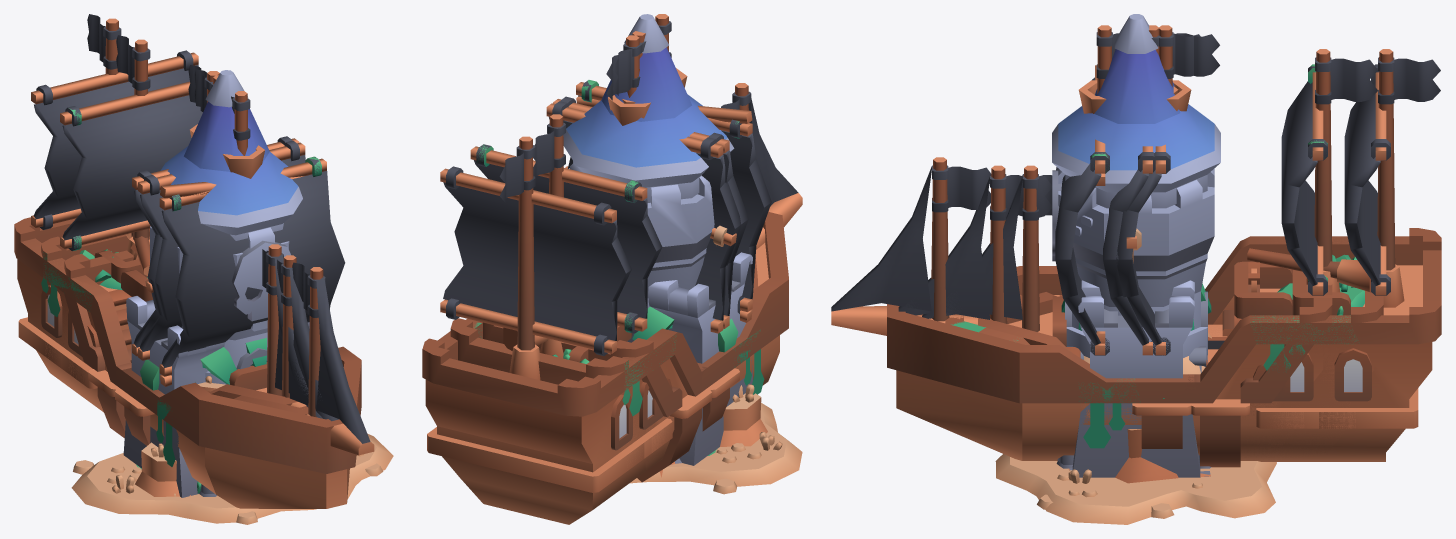
The model's file is pirate_kit.glb.
3 views of the same model, side by side, from view 1: azimuth 30°, elevation 25°; view 2: azimuth 150°, elevation 25°; view 3: azimuth 270°, elevation 25° (orthographic). The views are drawn at different scales.
Parts seen in each view (by area): view 1: ship-pirate-large, sail-a (×4), sail-b (×2), ship-pirate-medium, tower-complete-large, patch-sand-foliage, ship-pirate-small, castle-gate, flag-c (×3), rocks-sand-a, ship-ghost, tower-complete-small (+3 smaller); view 2: ship-pirate-large, sail-b (×3), tower-complete-large, sail-a (×4), ship-pirate-medium, castle-gate, patch-sand-foliage, tower-complete-small, ship-pirate-small, flag-c (×2), rocks-sand-a, ship-ghost (+2 smaller); view 3: ship-pirate-large, ship-pirate-medium, tower-complete-large, sail-b (×2), patch-sand-foliage, castle-gate, sail-a (×3), ship-pirate-small, tower-complete-small, flag-c (×4), ship-ghost, Group (+3 smaller).
Boxes of the visible parts, bbox=[...] form: ship-pirate-large: bbox=[14, 18, 374, 508]; sail-a (×4): bbox=[132, 136, 345, 386]; sail-b (×2): bbox=[31, 50, 202, 250]; ship-pirate-medium: bbox=[41, 39, 338, 445]; tower-complete-large: bbox=[160, 70, 302, 369]; patch-sand-foliage: bbox=[71, 433, 393, 524]; ship-pirate-small: bbox=[64, 71, 322, 435]; castle-gate: bbox=[123, 296, 309, 497]; flag-c (×3): bbox=[87, 14, 325, 317]; rocks-sand-a: bbox=[135, 376, 225, 496]; ship-ghost: bbox=[41, 252, 175, 466]; tower-complete-small: bbox=[150, 226, 289, 384]; ship-pirate-large: bbox=[422, 31, 802, 524]; sail-b (×3): bbox=[440, 144, 662, 355]; tower-complete-large: bbox=[563, 14, 734, 342]; sail-a (×4): bbox=[546, 81, 771, 333]; ship-pirate-medium: bbox=[450, 14, 765, 489]; castle-gate: bbox=[648, 252, 752, 465]; patch-sand-foliage: bbox=[630, 403, 802, 494]; tower-complete-small: bbox=[569, 162, 714, 307]; ship-pirate-small: bbox=[483, 35, 677, 470]; flag-c (×2): bbox=[499, 123, 565, 202]; rocks-sand-a: bbox=[720, 384, 767, 446]; ship-ghost: bbox=[474, 322, 764, 416]; ship-pirate-large: bbox=[831, 25, 1441, 467]; ship-pirate-medium: bbox=[898, 25, 1383, 461]; tower-complete-large: bbox=[1052, 14, 1220, 354]; sail-b (×2): bbox=[1281, 64, 1390, 295]; patch-sand-foliage: bbox=[995, 454, 1276, 524]; castle-gate: bbox=[1056, 282, 1211, 477]; sail-a (×3): bbox=[1052, 77, 1170, 355]; ship-pirate-small: bbox=[922, 25, 1332, 461]; tower-complete-small: bbox=[1058, 168, 1214, 357]; flag-c (×4): bbox=[932, 33, 1440, 212]; ship-ghost: bbox=[951, 315, 1358, 448]; Group: bbox=[1247, 248, 1371, 292].
Bounding box in the file's own units: 7.74 × 10.56 × 13.1.
Materials: 1 (1 with a texture image).
